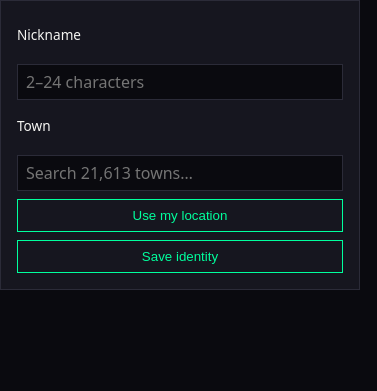
Test: IdentityPicker › geolocation denial falls back to the search prompt
Click the button with test id "identity-locate" at x=180, y=216, box top-left (17, 199), bottom-right (343, 232)
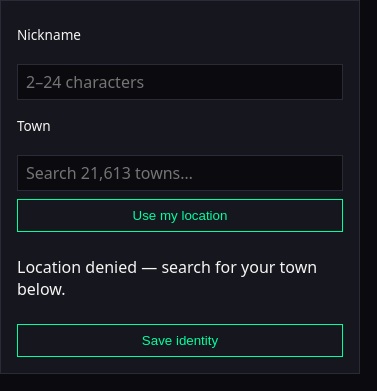
Now the message with test id "identity-status" reads "Location denied — search for your town below.", box top-left (17, 256), bottom-right (343, 300)
